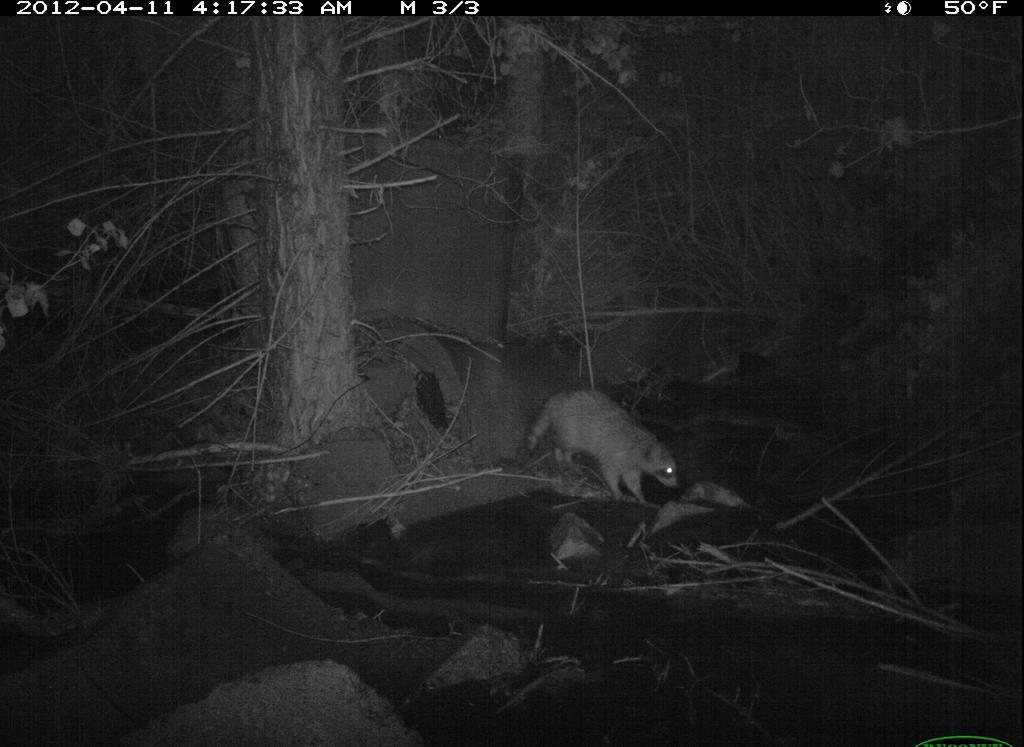raccoon: (520, 381, 689, 523)
